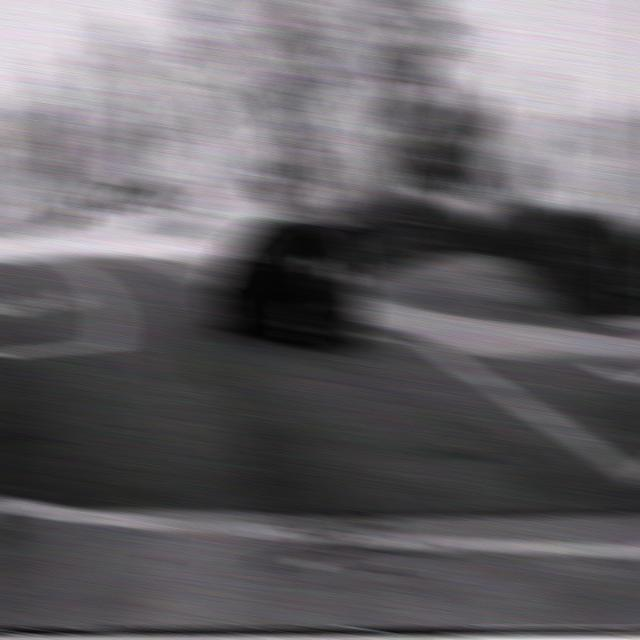pedestrianCrossing: (50, 171, 80, 203)
